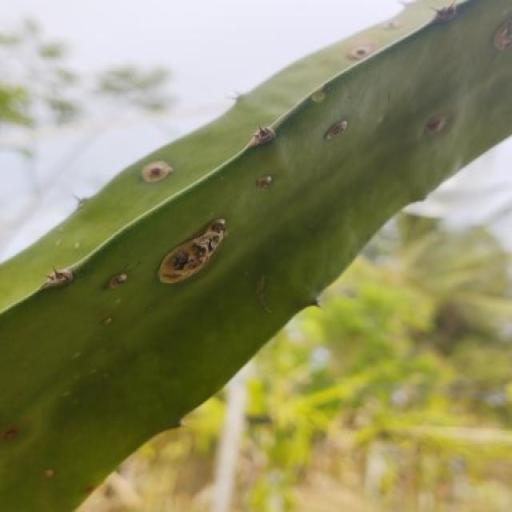stemcanker: (320, 114, 354, 146), (101, 266, 134, 290), (251, 170, 277, 197), (0, 416, 20, 444), (38, 464, 60, 486), (78, 479, 98, 502), (99, 309, 118, 330)
